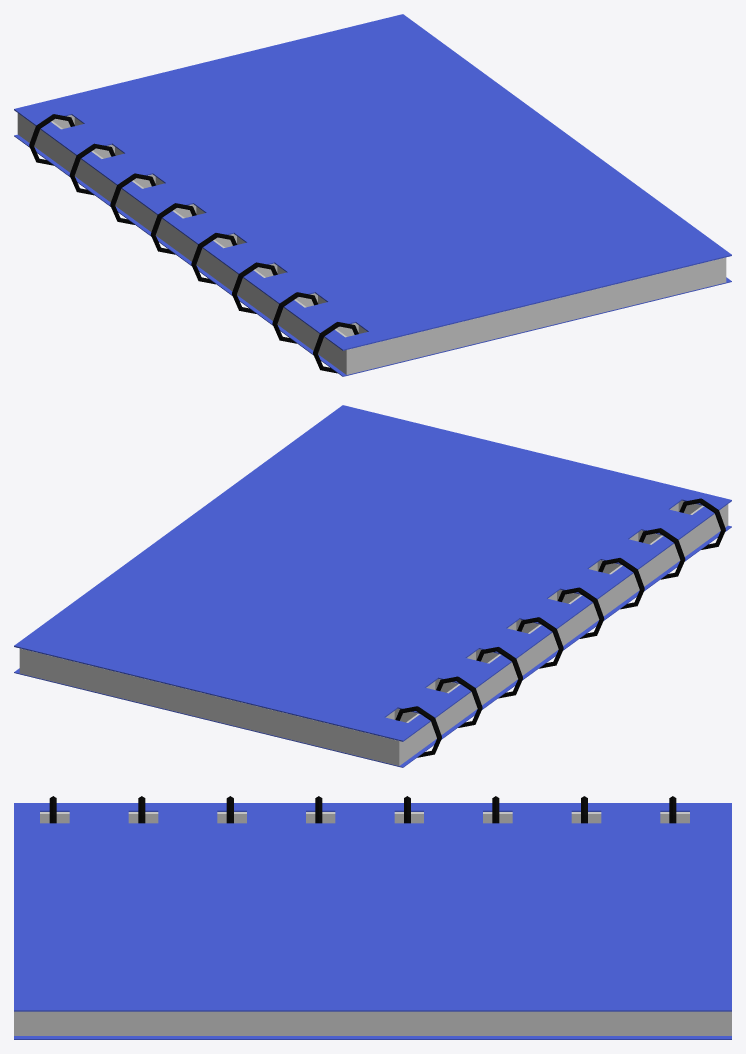
The model's file is Notebook .fbx.
3 renders of one model, top to bottom at view 1: azimuth 30°, elevation 25°; view 2: azimuth 150°, elevation 25°; view 3: azimuth 270°, elevation 25°, orthographic. The views are drawn at different scales.
Visible parts, largest first — view 1: Plane.001, Plane, Circle.001; view 2: Plane.001, Plane, Circle.001; view 3: Plane.001, Plane, Circle.001.
Part boxes in pixels (x1=…): Plane.001: x1=14, y1=14, x2=731, y2=376; Plane: x1=17, y1=113, x2=726, y2=374; Circle.001: x1=29, y1=114, x2=358, y2=373; Plane.001: x1=14, y1=405, x2=731, y2=767; Plane: x1=19, y1=500, x2=728, y2=765; Circle.001: x1=395, y1=498, x2=725, y2=757; Plane.001: x1=14, y1=803, x2=731, y2=1039; Plane: x1=14, y1=812, x2=731, y2=1035; Circle.001: x1=49, y1=796, x2=676, y2=823.
Bounding box in the file's own units: 211 × 26.02 × 300.
